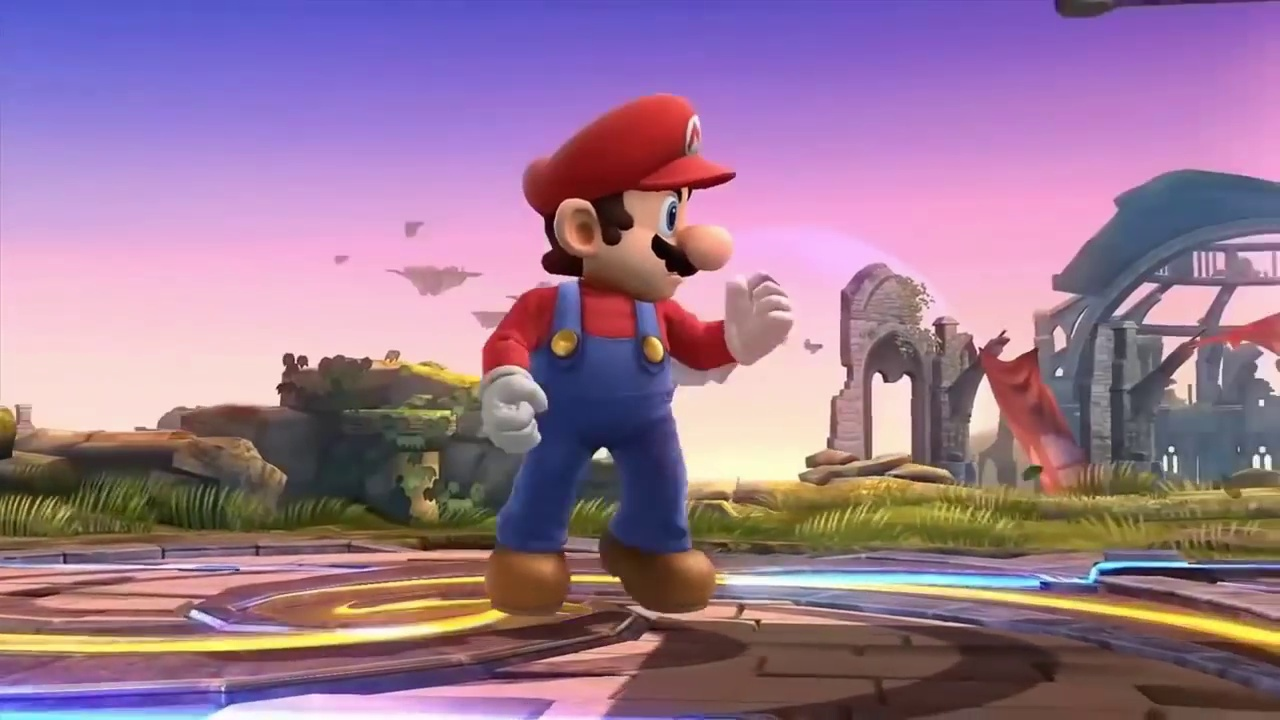Mario: (480, 93, 792, 612)
